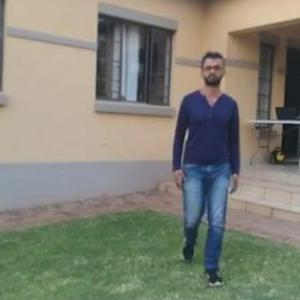follow: (168, 42, 241, 288)
